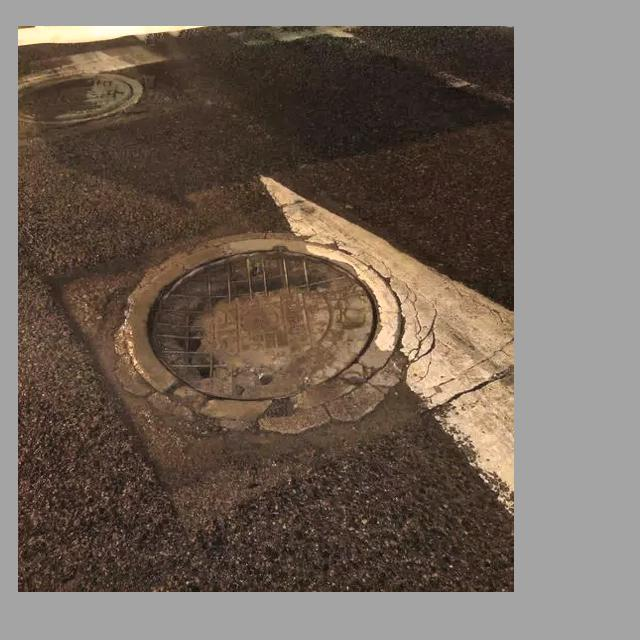circle: (64, 212, 478, 485)
